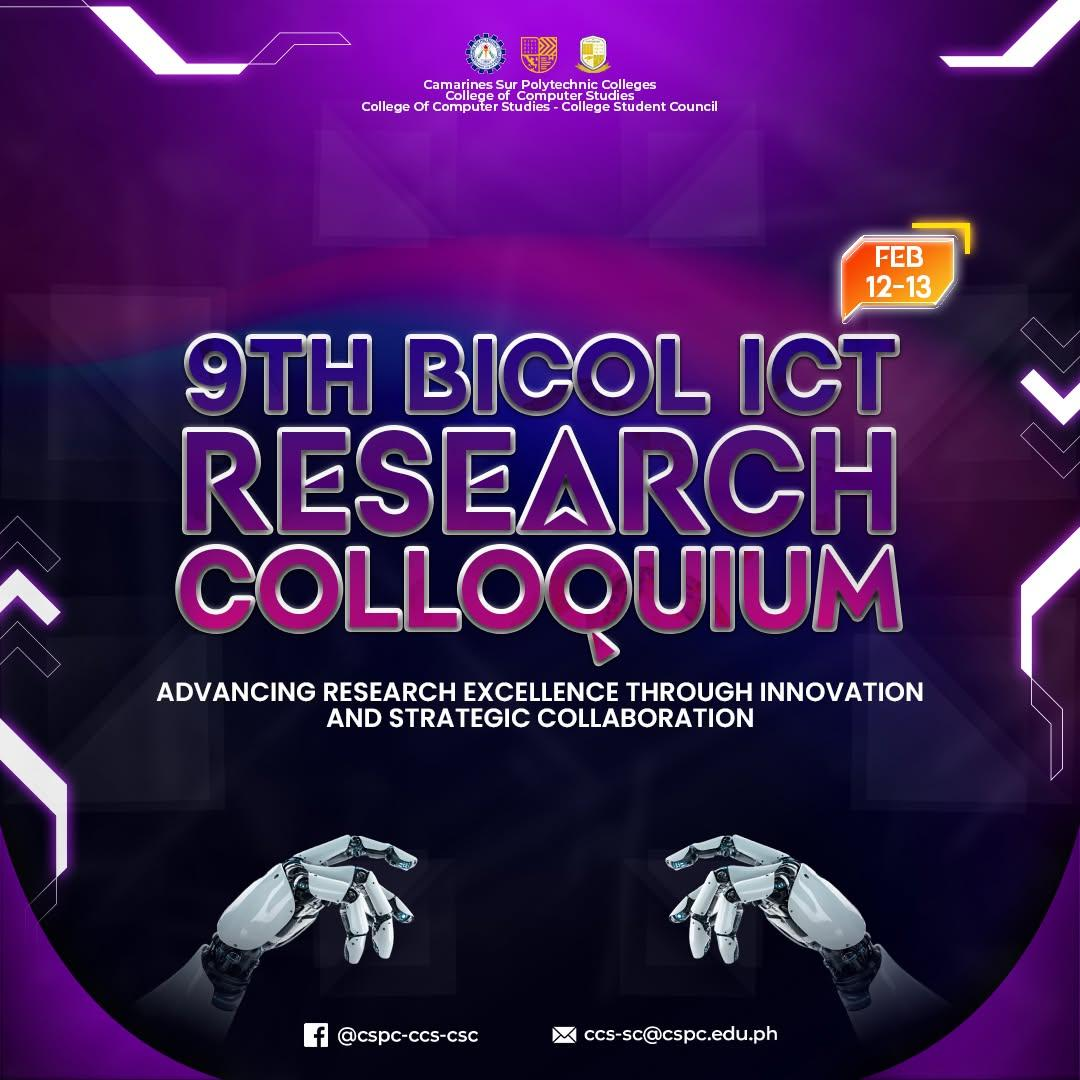embellishment: (296, 1015, 336, 1054), (547, 1019, 581, 1050)
logo: (461, 28, 511, 77), (517, 30, 563, 77), (574, 30, 616, 77)
text: (168, 320, 927, 672), (149, 677, 944, 733), (358, 76, 722, 115), (857, 240, 942, 302), (580, 1021, 784, 1046), (335, 1022, 489, 1049)
underlay: (835, 233, 958, 325)
